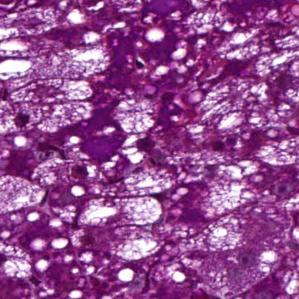ballooning: (11, 78, 95, 135), (89, 145, 177, 198)
